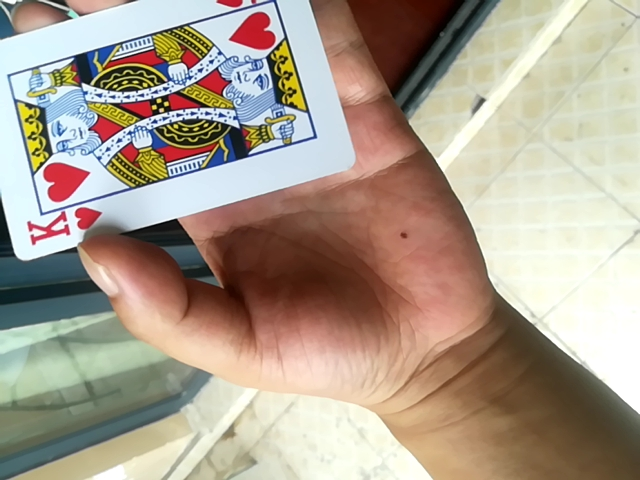hx k: (2, 0, 354, 267)
